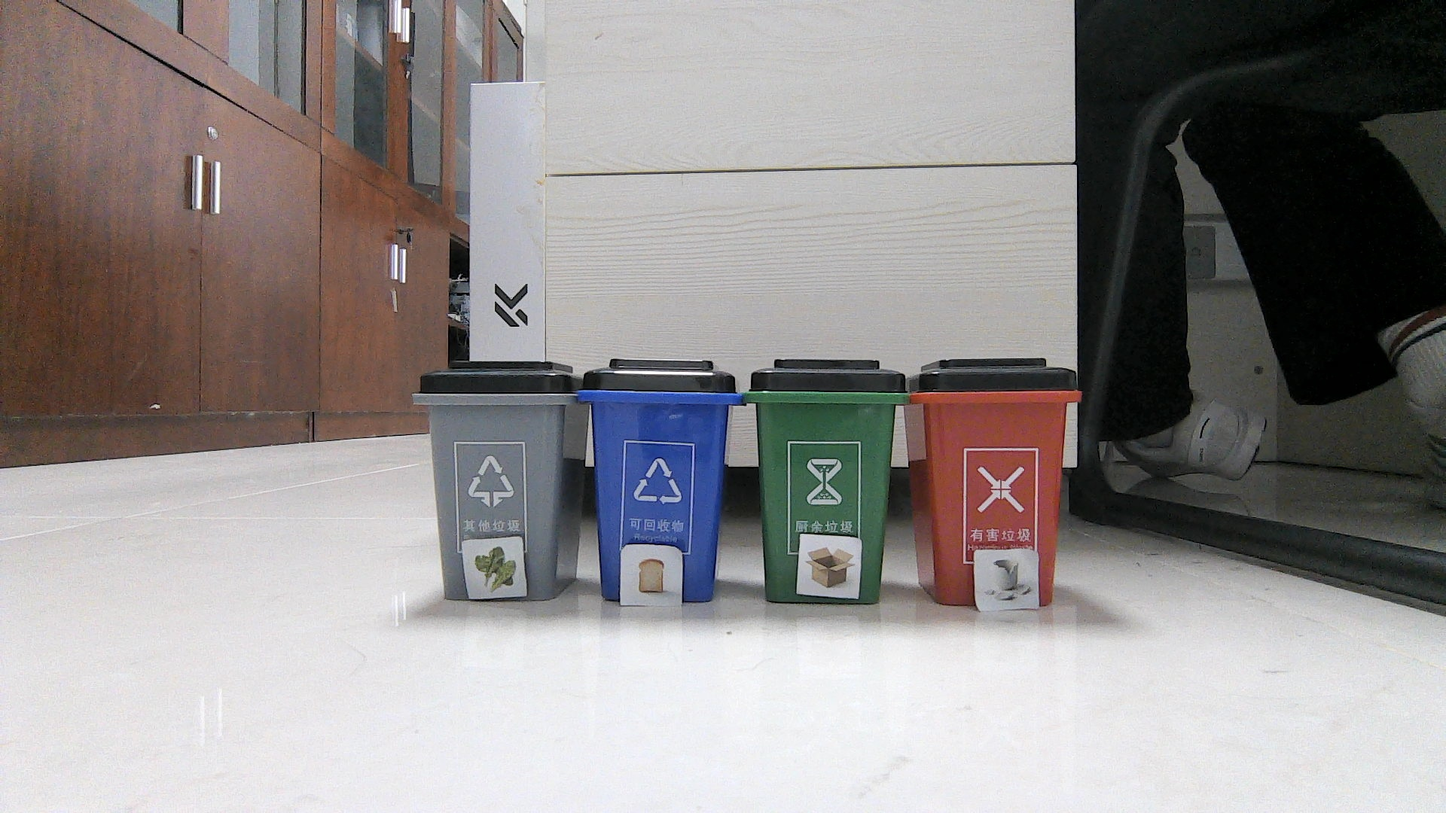food_trash: (468, 542, 520, 595), (627, 548, 675, 601)
other_trash: (978, 552, 1036, 609)
recyclable_trash: (801, 537, 858, 594)
